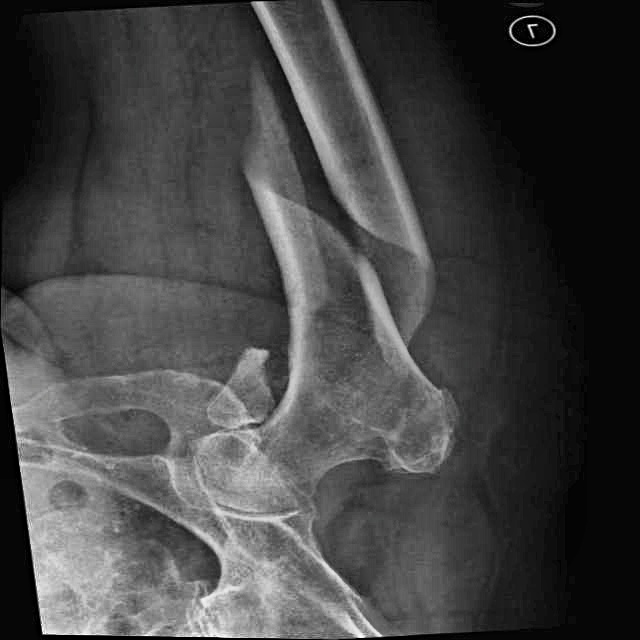Spiral: (229, 85, 506, 347)
